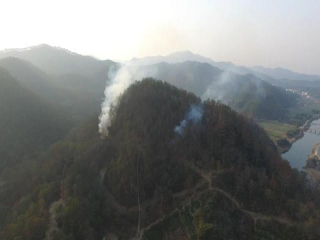smoke: (97, 60, 149, 142), (171, 81, 223, 143)
